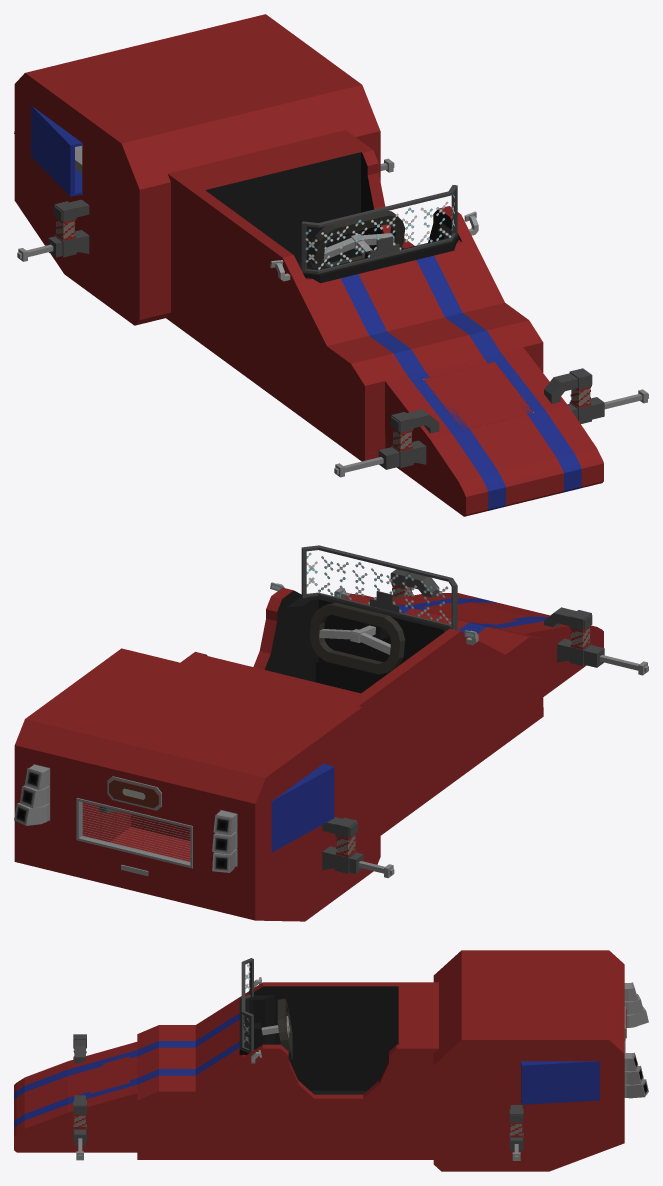
The model's file is f1dragster.obj.
3 views of the same model, one above another, from view 1: azimuth 30°, elevation 25°; view 2: azimuth 150°, elevation 25°; view 3: azimuth 270°, elevation 25° (orthographic). The views are drawn at different scales.
Parts seen in each view (by area): view 1: cube, logo_translucent, glass, steeringwheel, frontaxle; view 2: cube, hoodpanel, steeringwheel, glass, grill, brakelight, logo_translucent; view 3: cube, glass, logo_translucent, steeringwheel.
Boxes of the visible parts, bbox=[...] form: cube: bbox=[14, 14, 604, 516]; logo_translucent: bbox=[423, 362, 533, 429]; glass: bbox=[301, 185, 457, 273]; steeringwheel: bbox=[309, 211, 404, 269]; frontaxle: bbox=[334, 389, 648, 477]; cube: bbox=[14, 569, 604, 921]; hoodpanel: bbox=[50, 842, 219, 911]; steeringwheel: bbox=[309, 602, 405, 674]; glass: bbox=[301, 545, 457, 630]; grill: bbox=[76, 798, 192, 868]; brakelight: bbox=[109, 779, 159, 808]; logo_translucent: bbox=[423, 603, 519, 624]; cube: bbox=[14, 950, 648, 1171]; glass: bbox=[241, 958, 253, 1052]; logo_translucent: bbox=[70, 1056, 129, 1099]; steeringwheel: bbox=[261, 998, 292, 1059].
Bounding box in the file's own units: 2.62 × 1.23 × 5.05.
